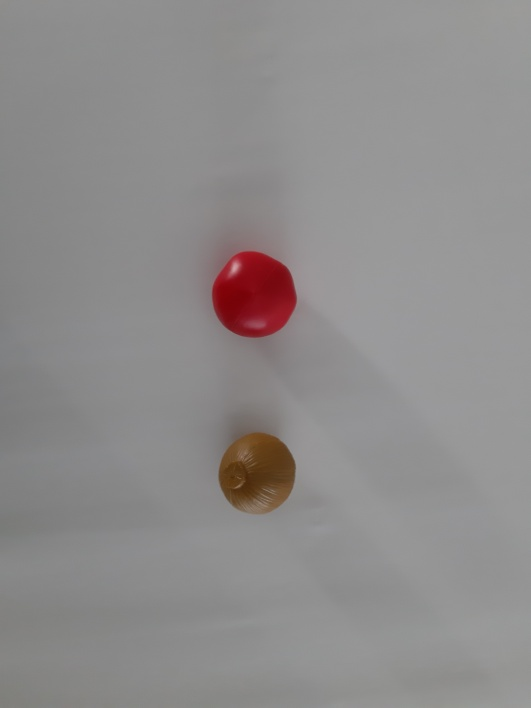onion: (207, 423, 313, 524)
tomato: (202, 239, 315, 357)
